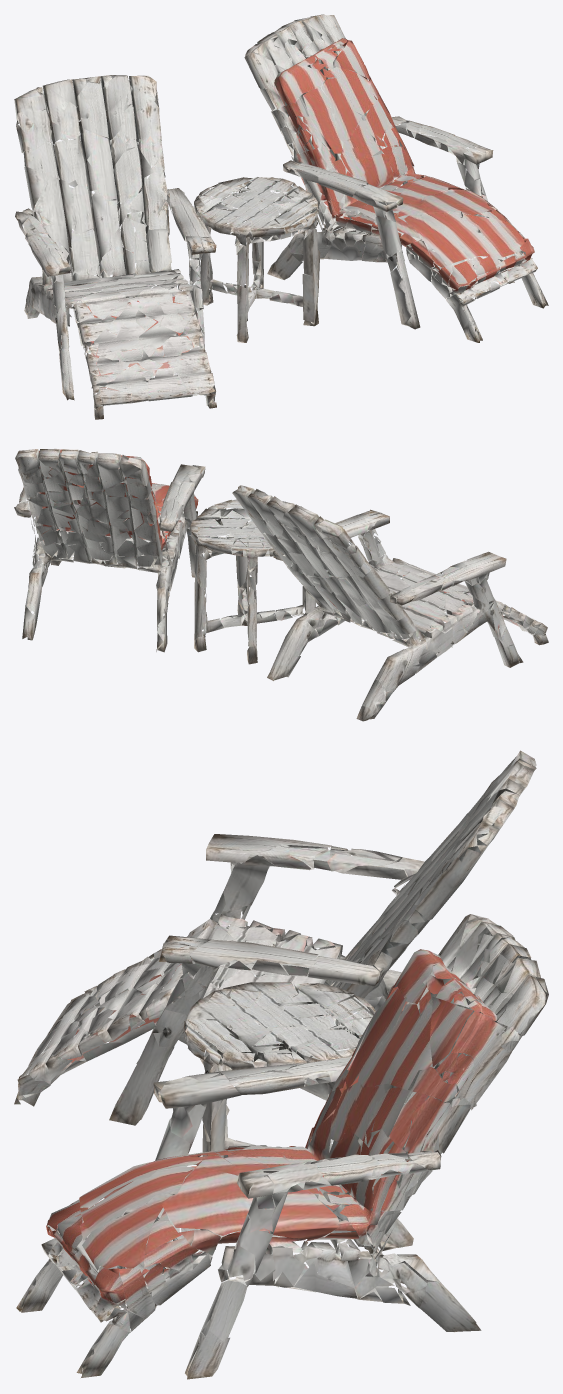
Rendered from lounger.glb.
The picture shows the model from 3 angles, top to bottom: view 1: azimuth 30°, elevation 25°; view 2: azimuth 150°, elevation 25°; view 3: azimuth 270°, elevation 25°; orthographic projection. The views are drawn at different scales.
Parts seen in each view (by area): view 1: Mesh_0; view 2: Mesh_0; view 3: Mesh_0.
Part boxes in pixels (left/top/right/bottom): Mesh_0: left=14, top=14, right=548, bottom=419; Mesh_0: left=14, top=448, right=548, bottom=721; Mesh_0: left=14, top=750, right=548, bottom=1379.
Size of the model in its own units: 1.9 by 0.8465 by 1.2.
1 material, 1 textured.
